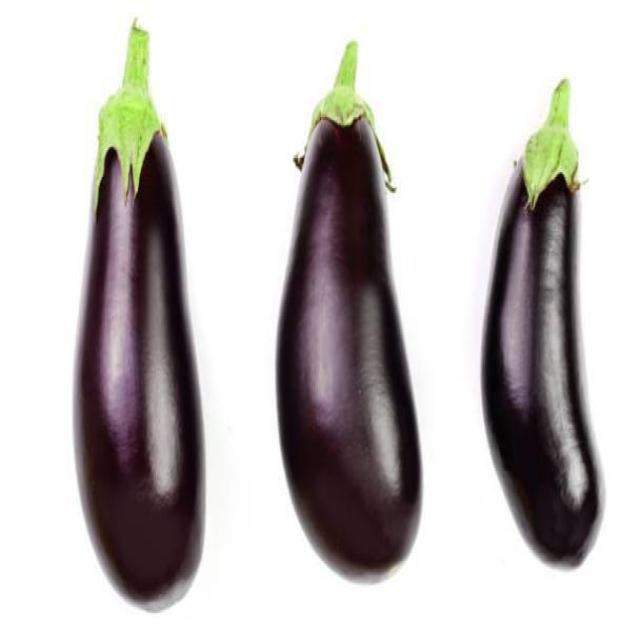eggplant: (270, 85, 423, 576), (71, 99, 209, 622), (479, 122, 605, 567)
